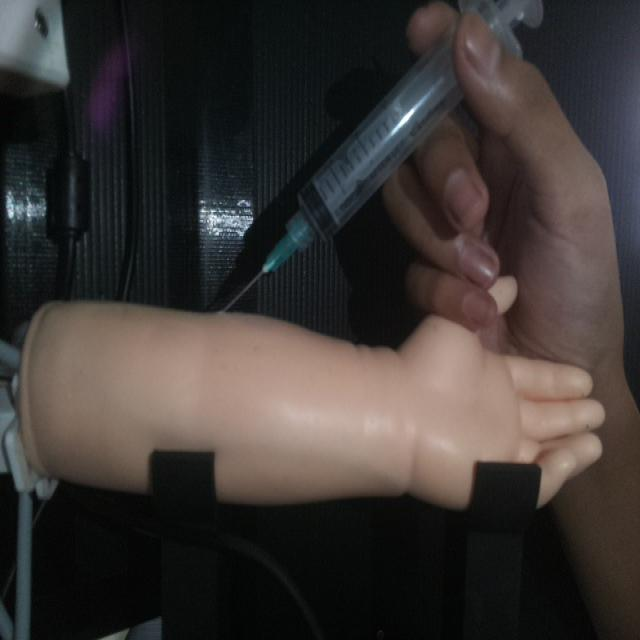Above 30 degrees: (217, 0, 545, 313)
